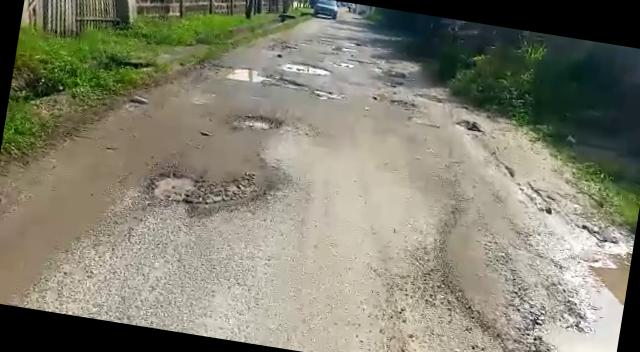pothole: (524, 239, 632, 352), (140, 152, 283, 230), (218, 64, 311, 92), (228, 109, 287, 136), (276, 57, 332, 77)
